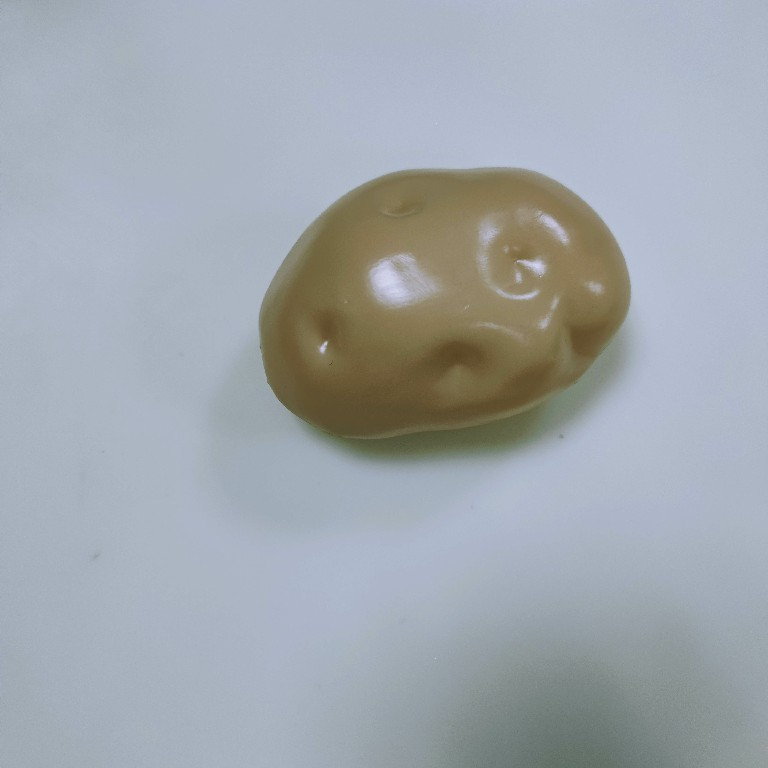fruit_potato: (251, 161, 636, 443)
